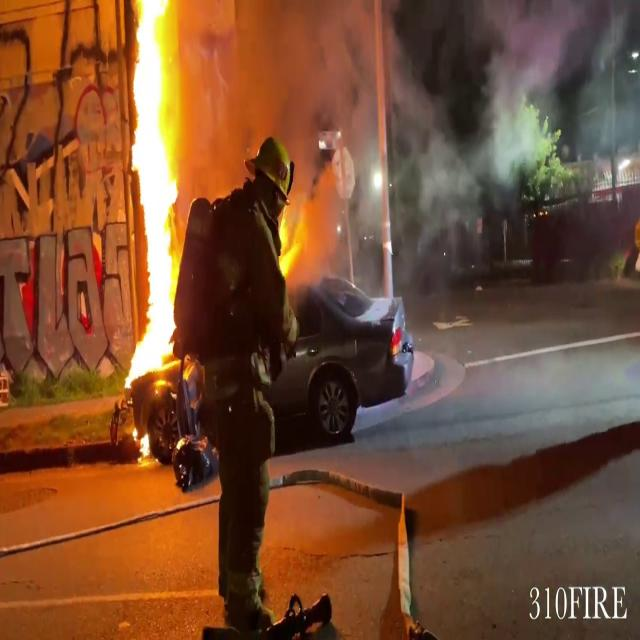Fire: (125, 0, 183, 389)
Smoke: (397, 1, 639, 248)
